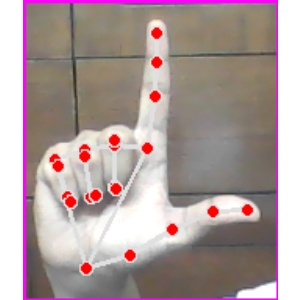L: (26, 1, 276, 300)
